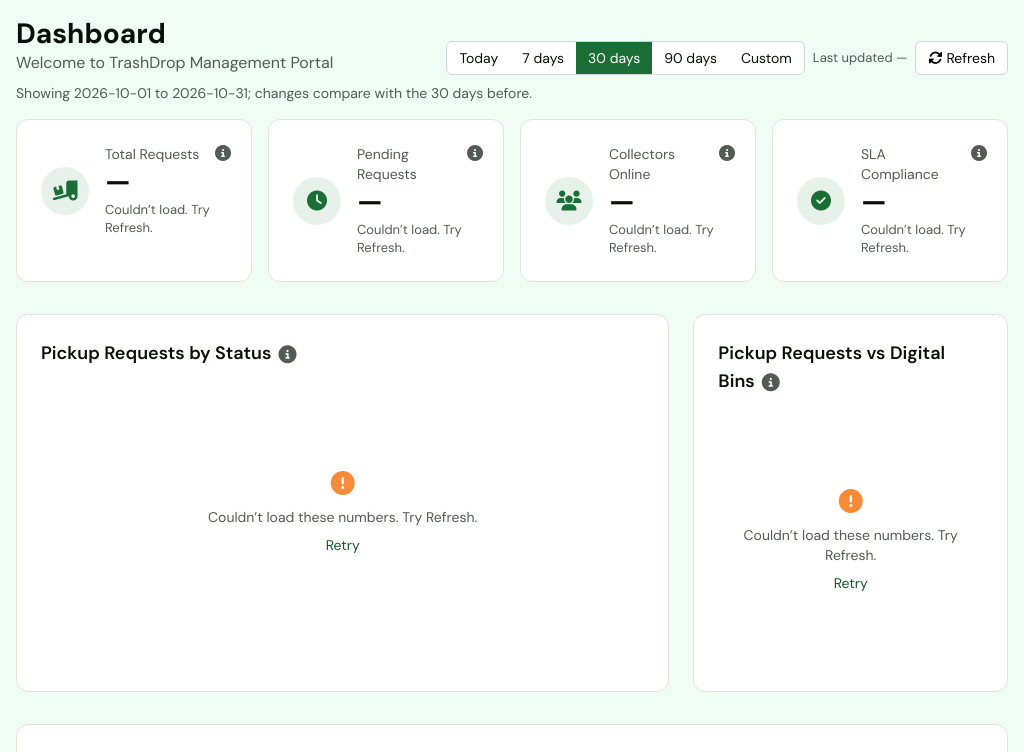
Test case: Dashboard states › a real failure shows "—", a plain message and a retry (never the backend text)
Check: the message with test id "load-failed" below "Pickup Requests by Status" is shown, box [208, 467, 477, 555]
Check: the button with test id "kpi-total" shows "—", box [17, 120, 251, 261]
Click the button "Retry" below "Pickup Requests by Status". click: click(343, 545)
box: [326, 535, 360, 555]
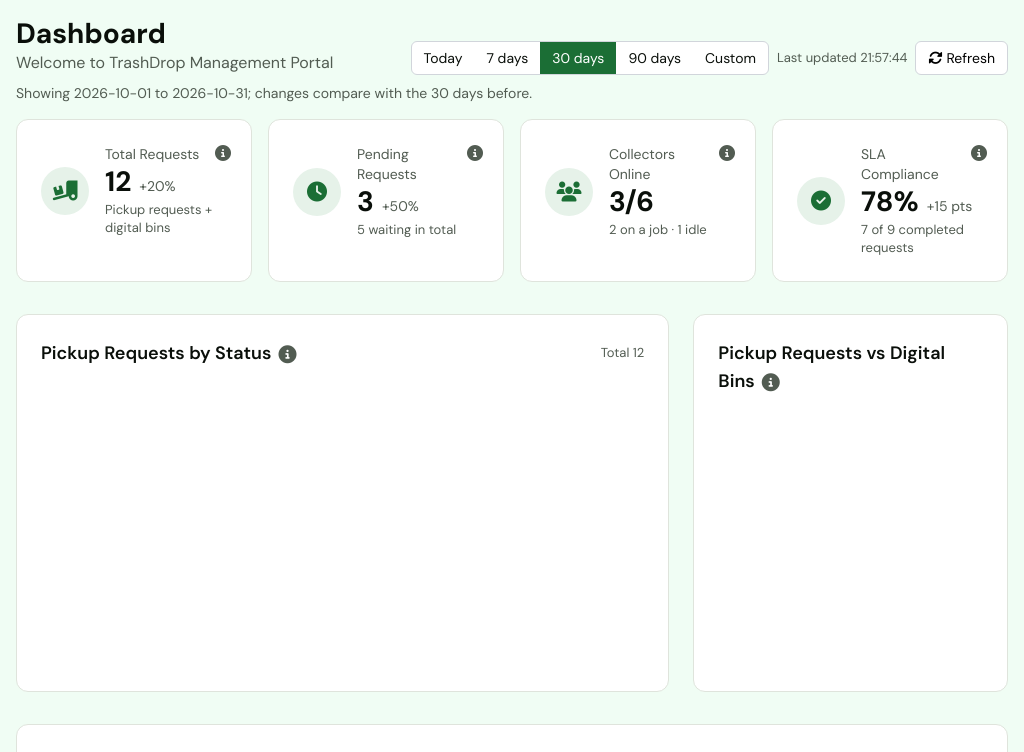
Check: the button with test id "kpi-total" shows "12", box [17, 120, 251, 261]
